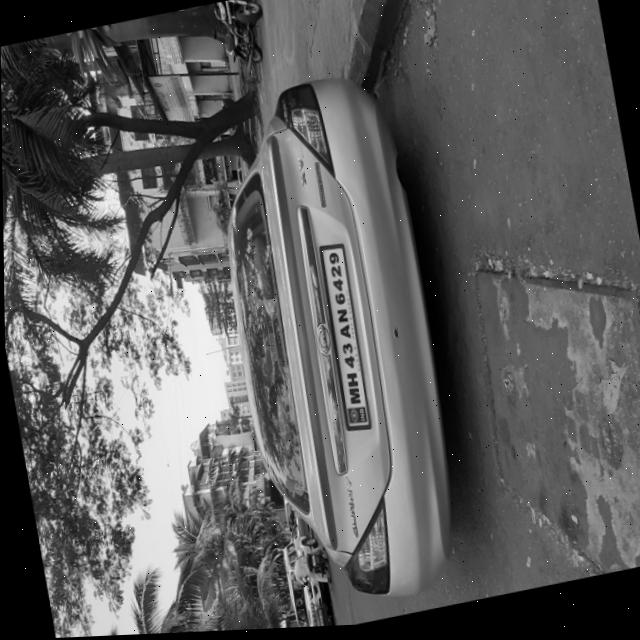car: (36, 484, 309, 639)
